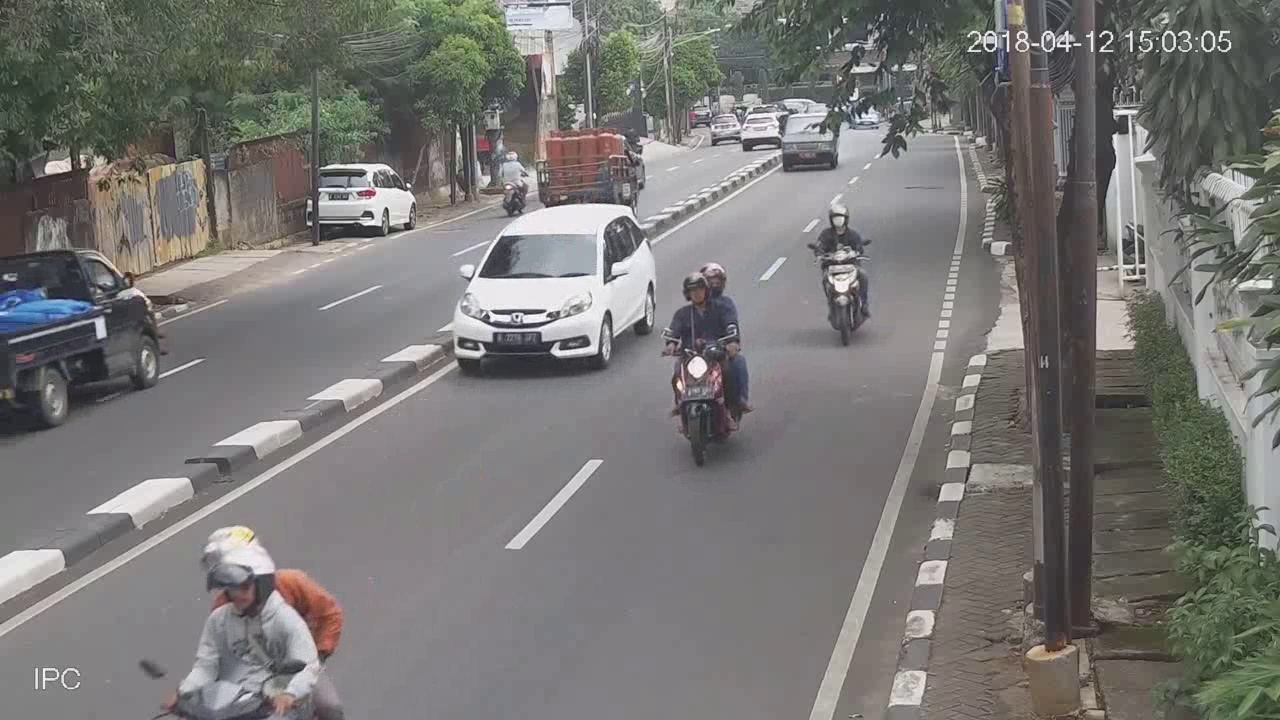car: (450, 197, 655, 384), (310, 155, 422, 242), (781, 114, 838, 172), (744, 111, 781, 152), (711, 111, 742, 147)
motorcycle: (653, 259, 755, 470), (799, 197, 880, 355), (491, 147, 530, 219)
